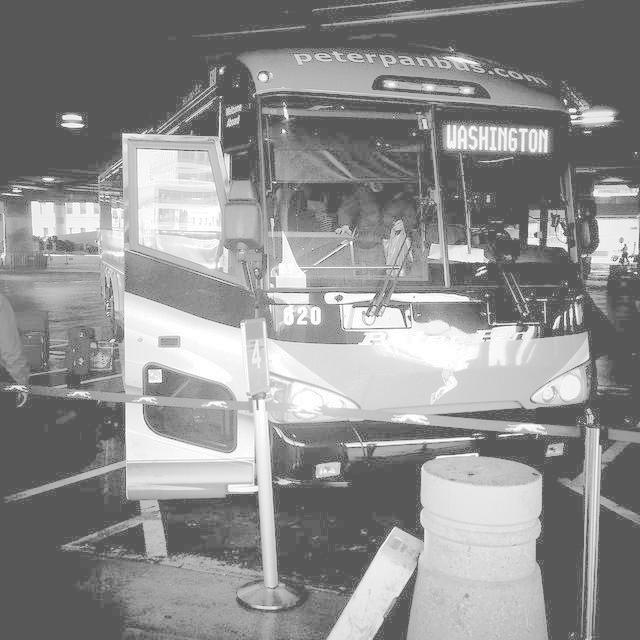Bus: (94, 63, 640, 508)
